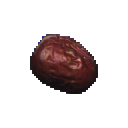gd: (18, 20, 122, 116)
